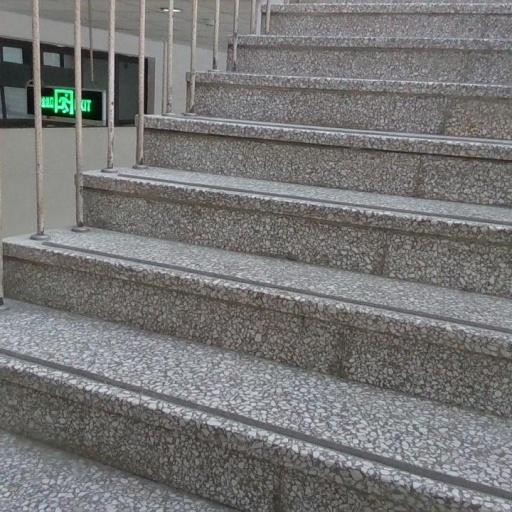stairs: (0, 1, 511, 511)
